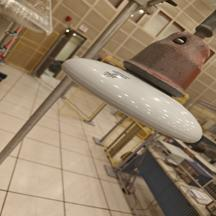insulator: (56, 24, 213, 146)
